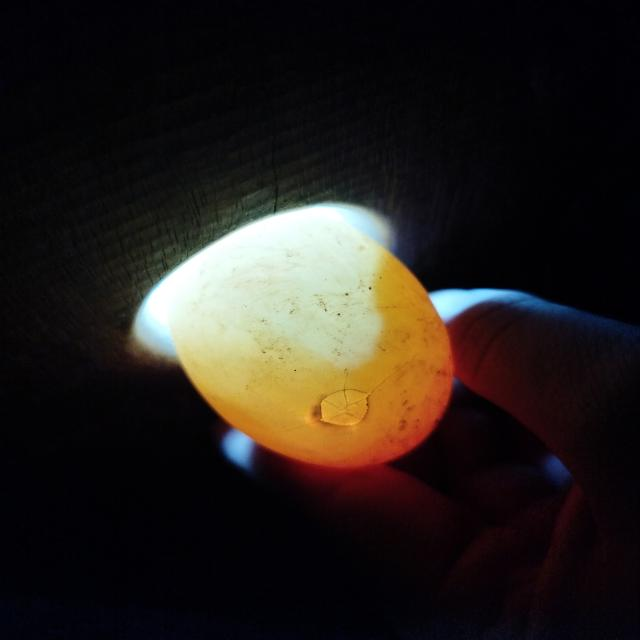Rachadura: (318, 389, 370, 425)
